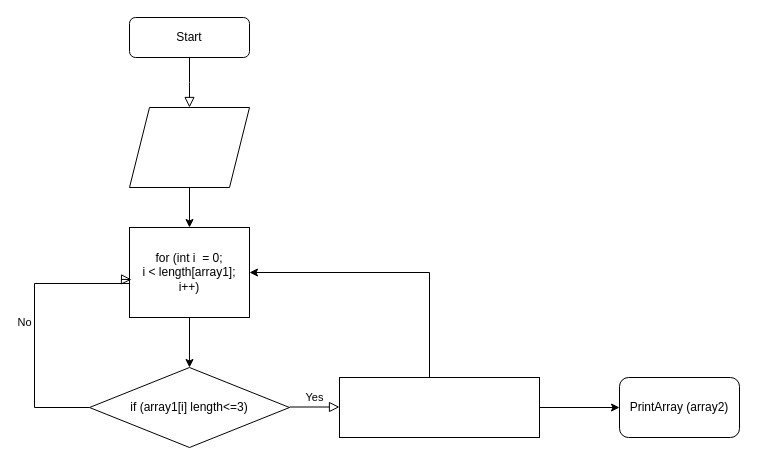
Some shapes in this 757 by 465 pixel diagram are drawn without their labels. The centre of each missing label's shape, as x and y in pixels:
"array2[count] = array1[i]; count++;" goes at point (439, 407).
"string[] array1; string array2; int count = 0;" goes at point (189, 147).
